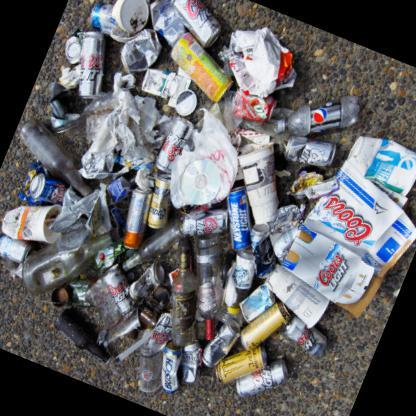Garbage: (0, 0, 378, 380), (80, 203, 324, 411), (73, 0, 291, 213), (17, 154, 195, 354), (226, 112, 406, 304), (158, 237, 312, 398)
